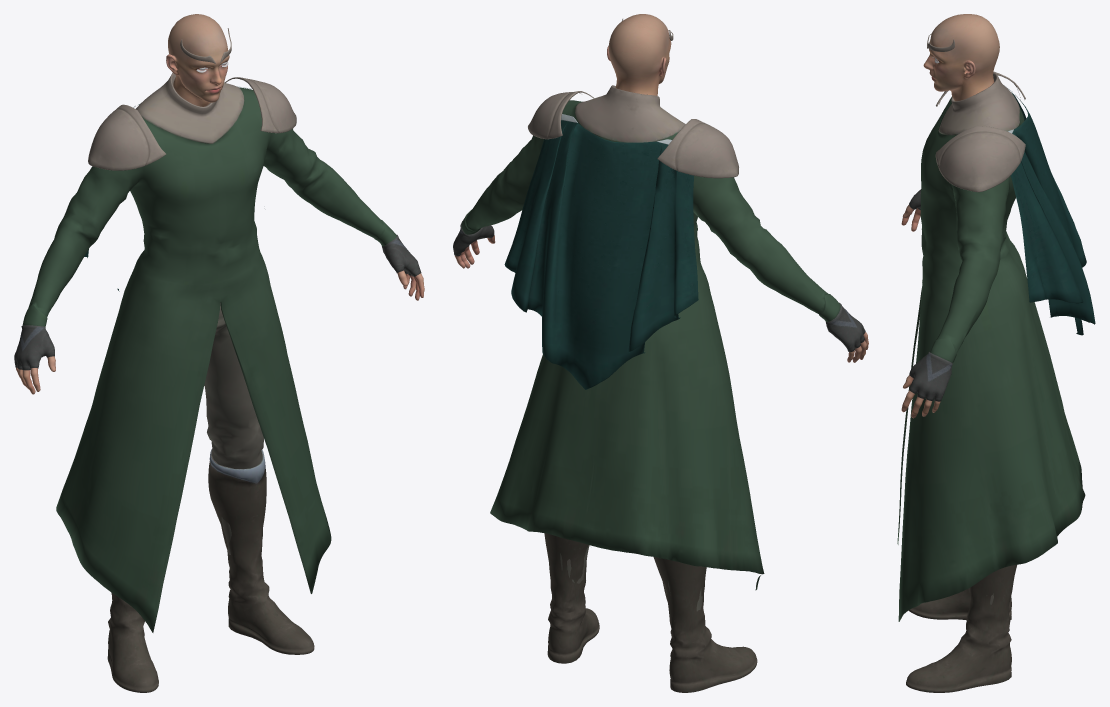
3 views of the same model, side by side, from view 1: azimuth 30°, elevation 25°; view 2: azimuth 150°, elevation 25°; view 3: azimuth 270°, elevation 25° (orthographic).
Visible parts, largest first — view 1: GM_0110_T01_Body, GM_0110_T01_Boots, GM_0110_T01_Pants, GM_0110_T01_Shoulder, GM_BaseHead, GM_0110_T01_Glove; view 2: GM_0110_T01_Body, GM_0110_T01_Cape, GM_0110_T01_Boots, GM_0110_T01_Shoulder, GM_BaseHead, GM_0110_T01_Glove; view 3: GM_0110_T01_Body, GM_0110_T01_Cape, GM_0110_T01_Boots, GM_BaseHead, GM_0110_T01_Shoulder, GM_0110_T01_Glove.
Part boxes in pixels (left/top/right/bottom): GM_0110_T01_Body: left=16, top=73, right=424, bottom=632; GM_0110_T01_Boots: left=107, top=449, right=314, bottom=692; GM_0110_T01_Pants: left=204, top=303, right=263, bottom=554; GM_0110_T01_Shoulder: left=88, top=77, right=296, bottom=170; GM_BaseHead: left=166, top=14, right=229, bottom=106; GM_0110_T01_Glove: left=14, top=234, right=421, bottom=370; GM_0110_T01_Body: left=455, top=85, right=868, bottom=590; GM_0110_T01_Cape: left=504, top=114, right=698, bottom=389; GM_0110_T01_Boots: left=544, top=533, right=757, bottom=692; GM_0110_T01_Shoulder: left=528, top=91, right=738, bottom=178; GM_BaseHead: left=607, top=14, right=671, bottom=95; GM_0110_T01_Glove: left=453, top=221, right=865, bottom=351; GM_0110_T01_Body: left=897, top=72, right=1085, bottom=621; GM_0110_T01_Cape: left=1004, top=85, right=1095, bottom=335; GM_0110_T01_Boots: left=906, top=565, right=1016, bottom=692; GM_BaseHead: left=923, top=14, right=999, bottom=101; GM_0110_T01_Shoulder: left=935, top=71, right=1025, bottom=192; GM_0110_T01_Glove: left=909, top=189, right=952, bottom=401.
Size of the model in its own units: 1.24 by 1.89 by 0.5372.
Materials: 10 (9 with a texture image).
